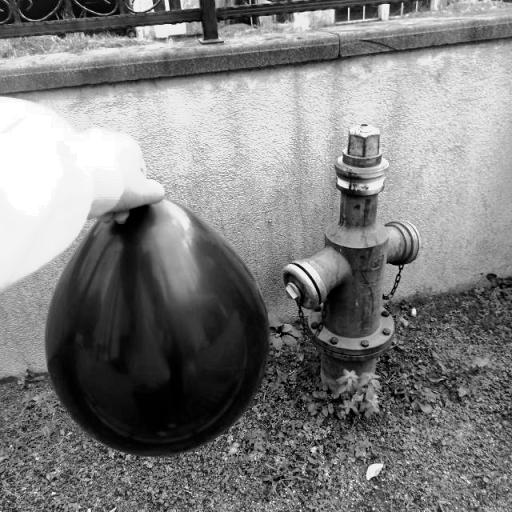balloon: (44, 194, 272, 460)
